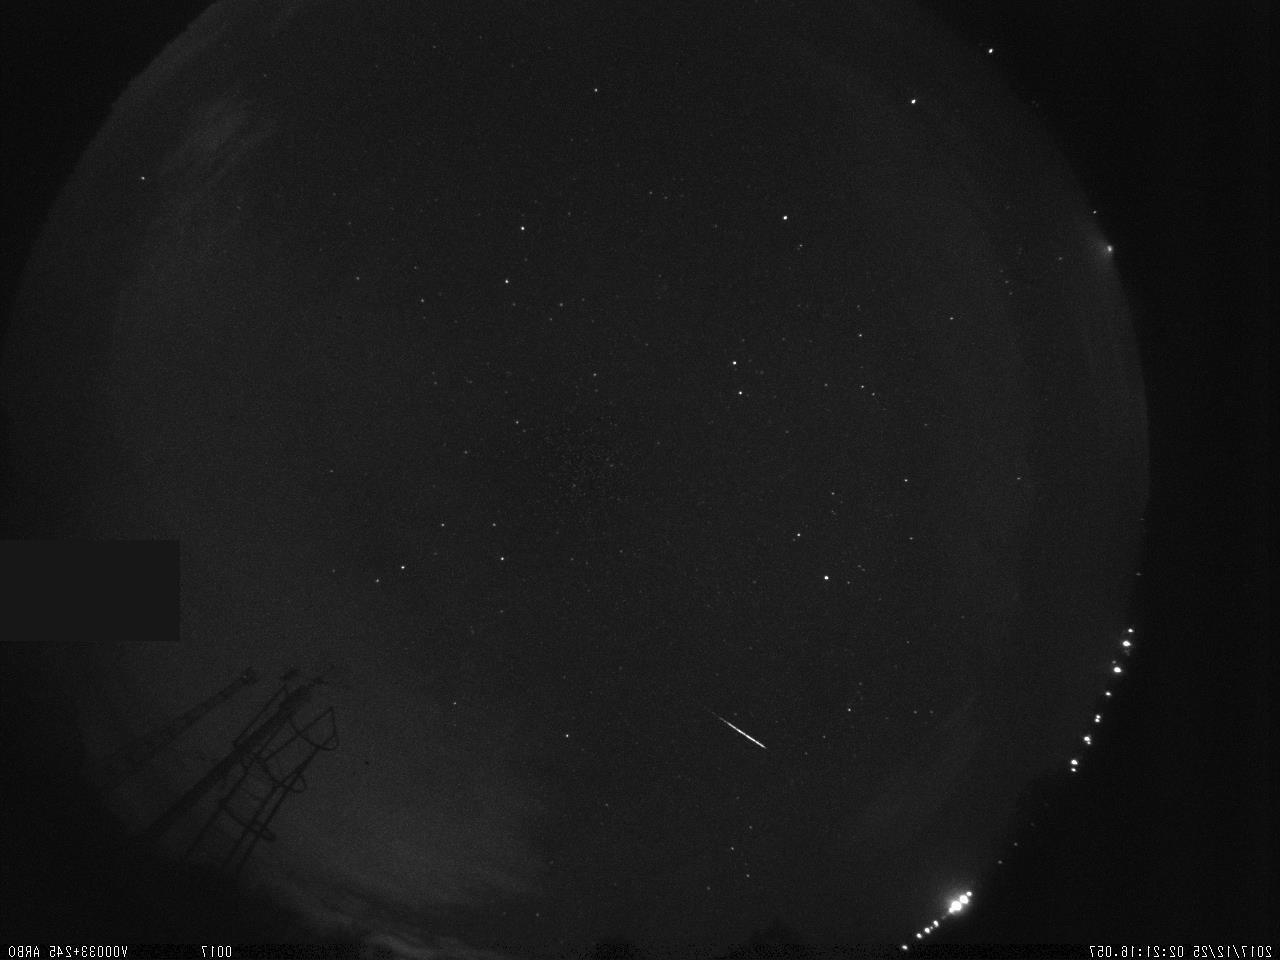meteor: (597, 686, 810, 765)
